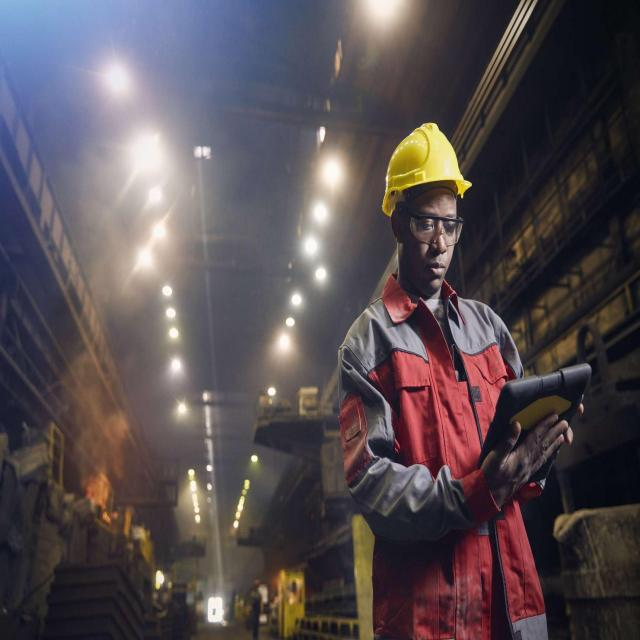Reflective-Jacket: (340, 275, 543, 635)
Safety-Helmet: (378, 117, 474, 215)
